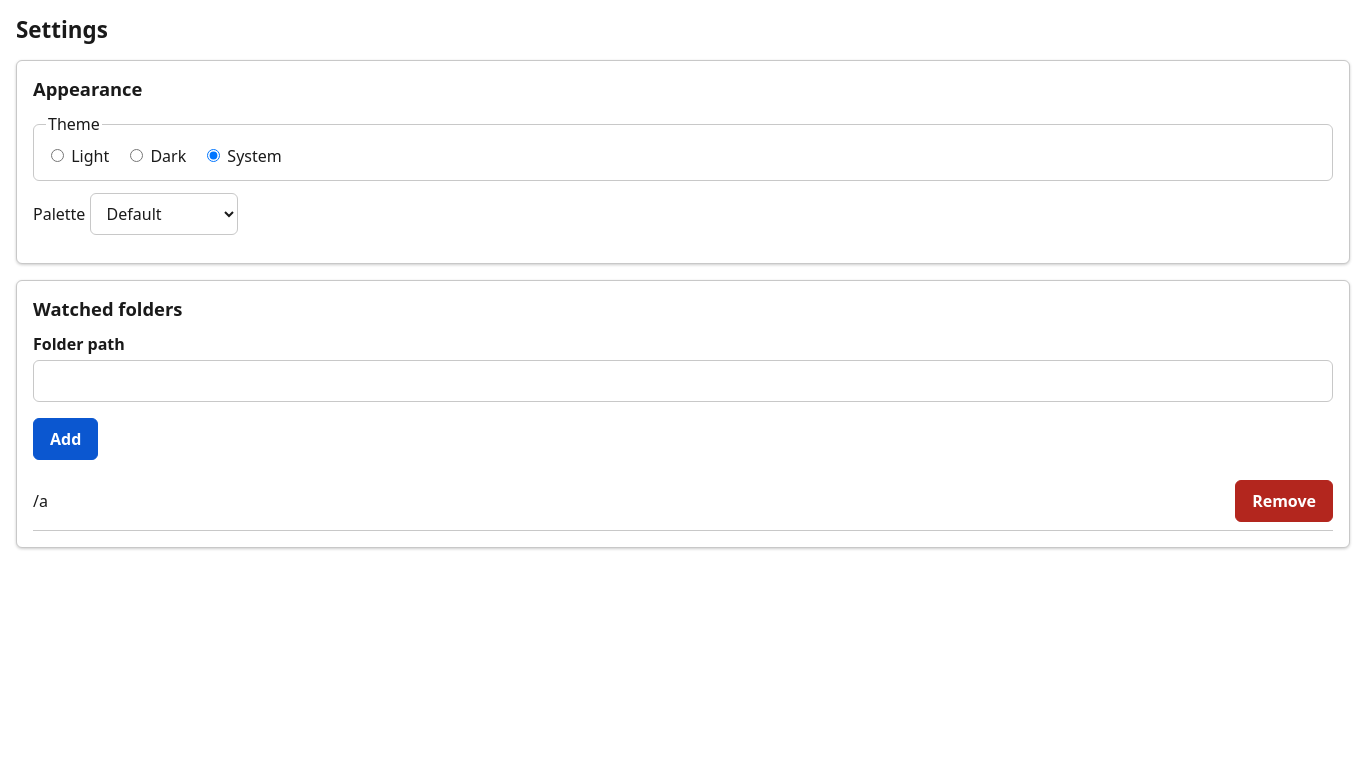
Scenario: adds a folder via POST and lists it
Expected: the text "/a" is shown, x1=33 y1=489 x2=48 y2=513
Type "/b" into the field labelled "Folder path" at (683, 381), box x1=33 y1=360 x2=1333 y2=402
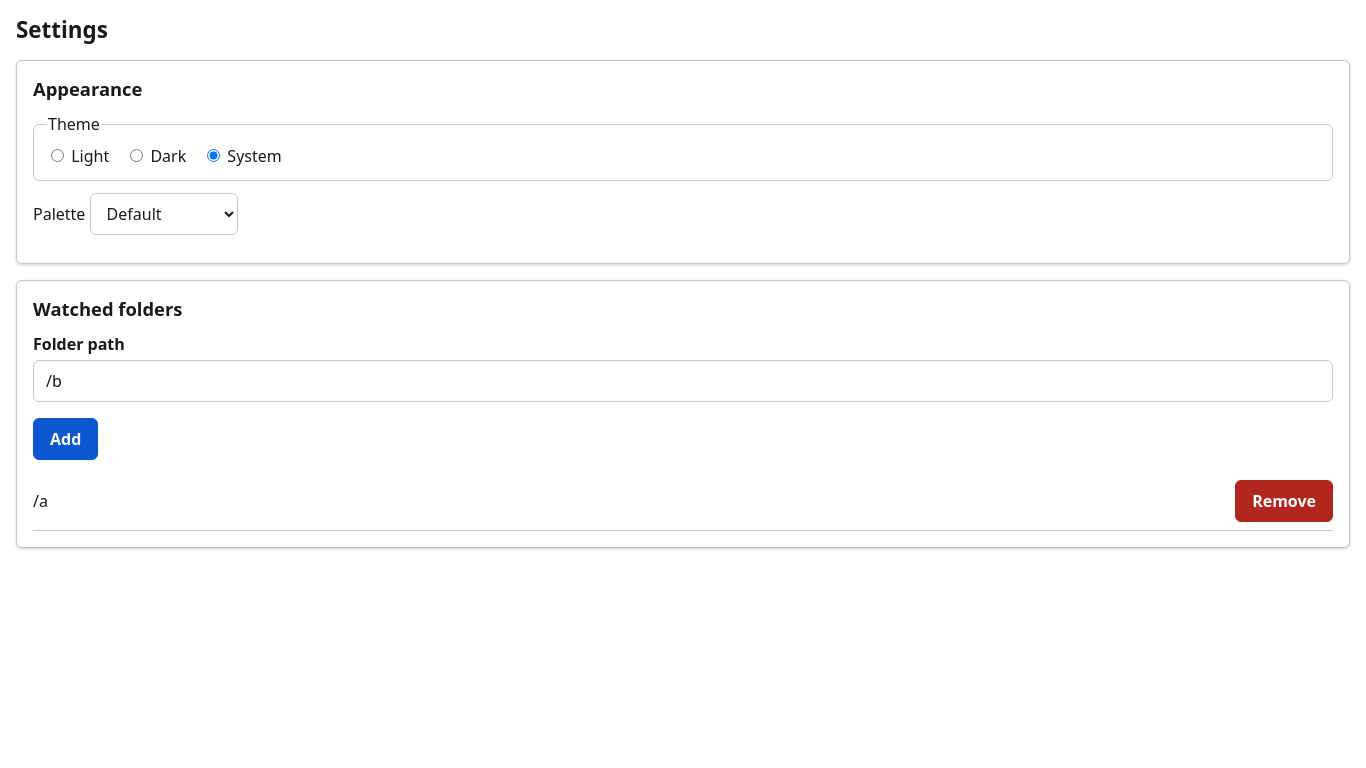
Click the button "Add" at (66, 439), box x1=33 y1=418 x2=98 y2=460
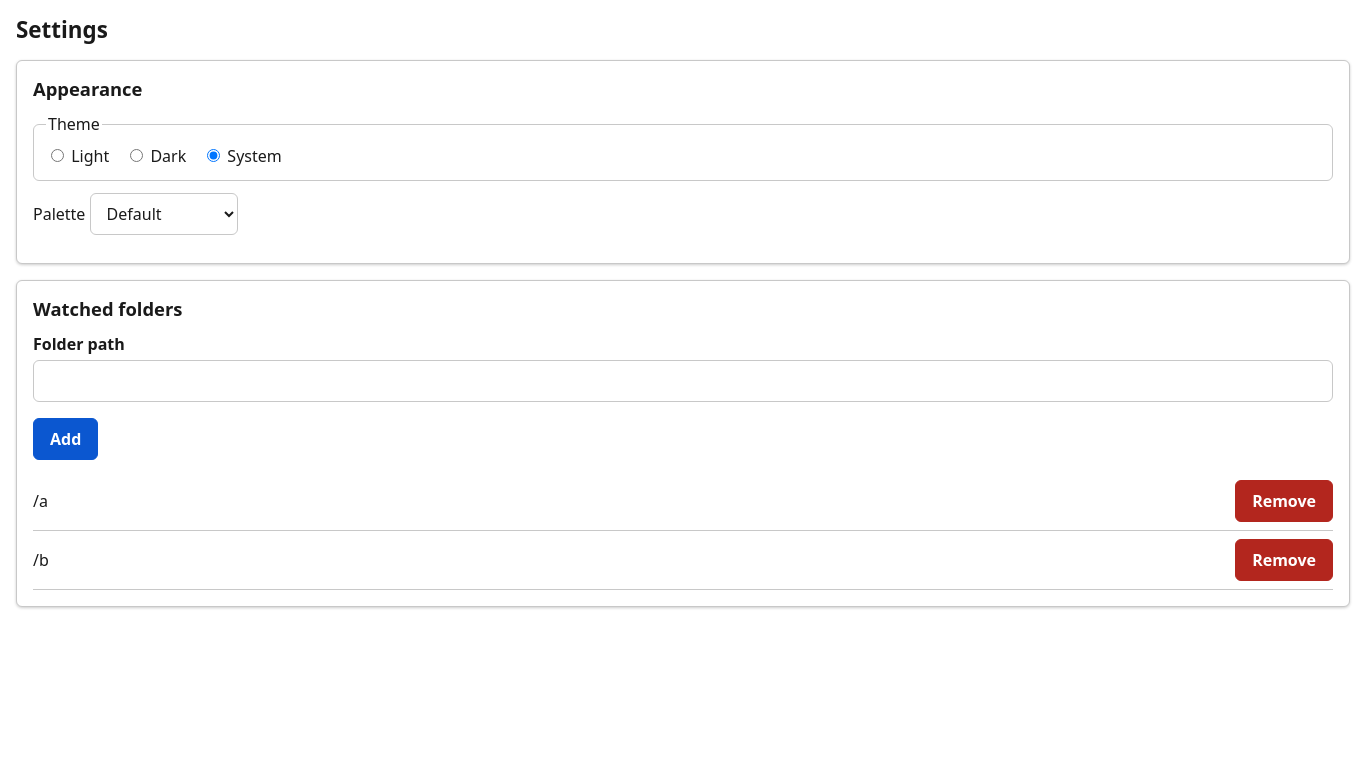
Expected: the text "/b" is shown, x1=33 y1=548 x2=49 y2=572
